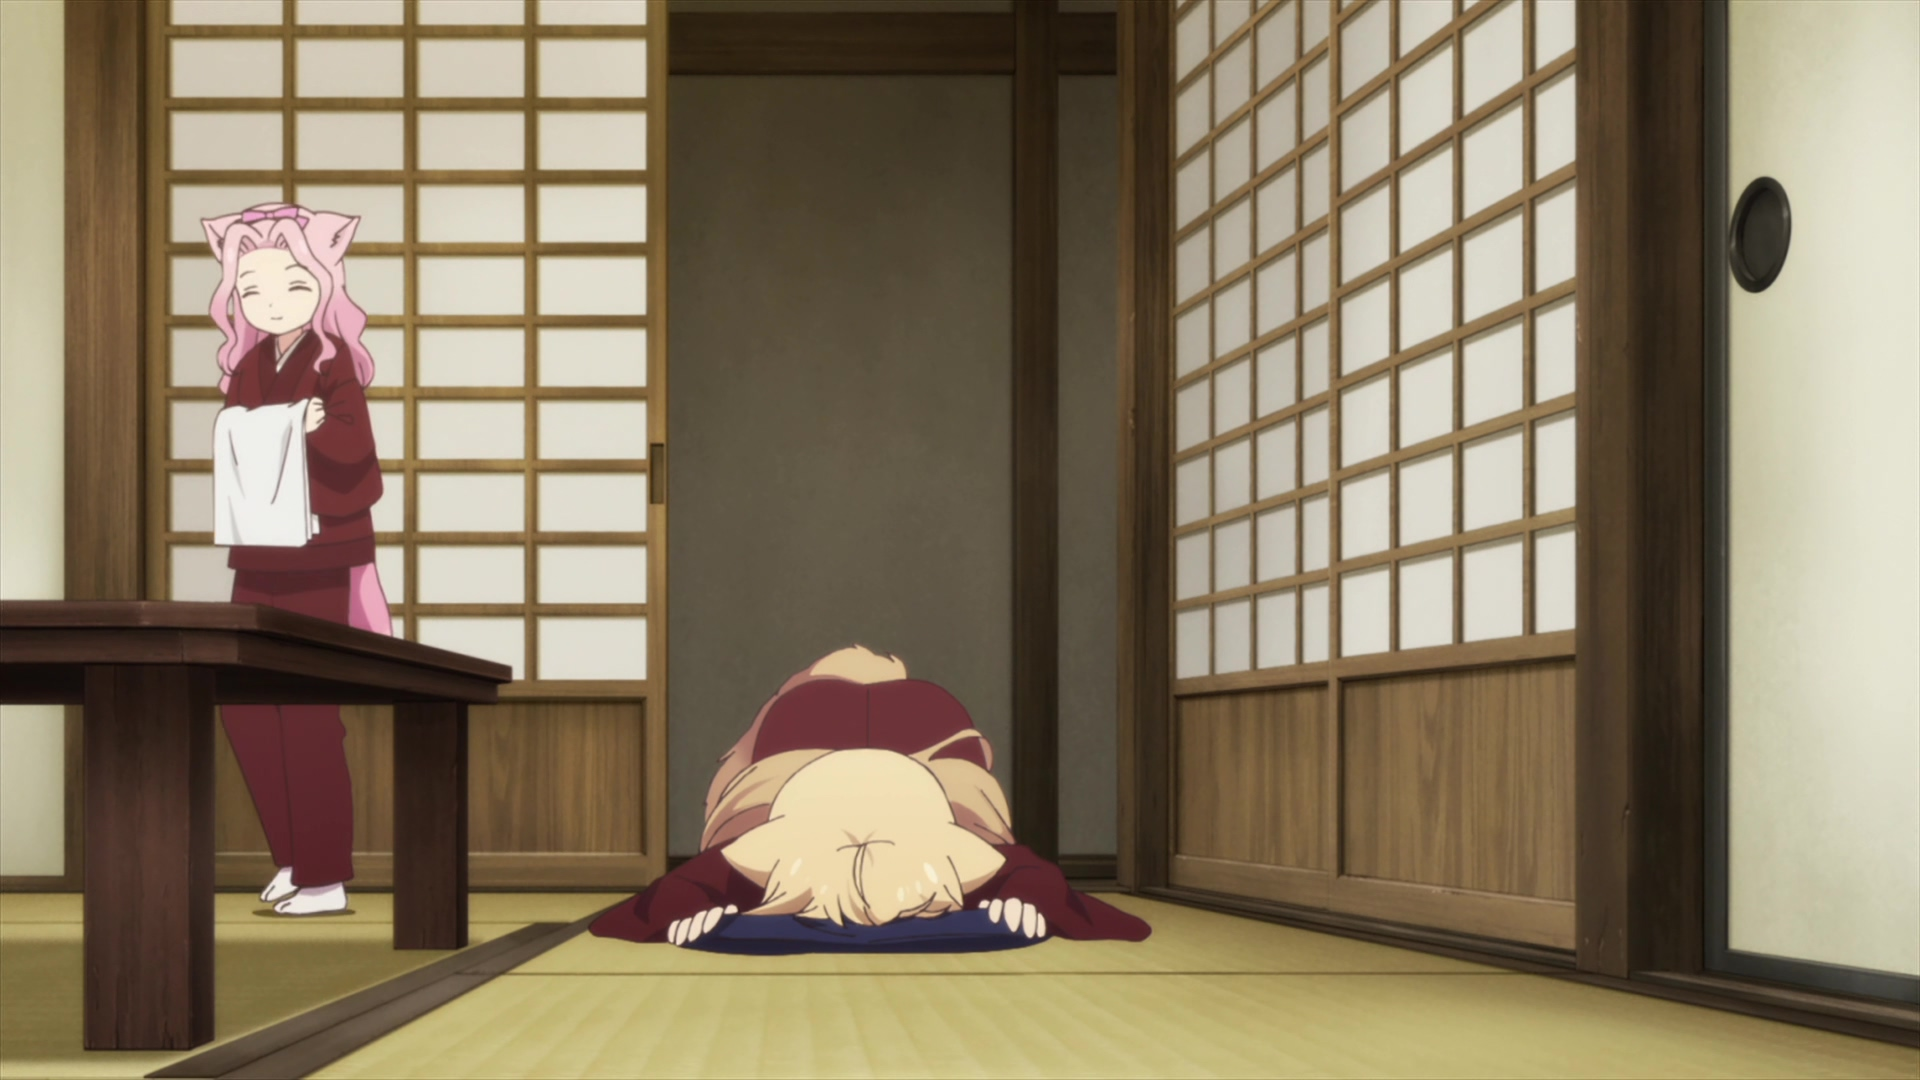柚: (589, 644, 1149, 948)
莲: (200, 204, 393, 920)
